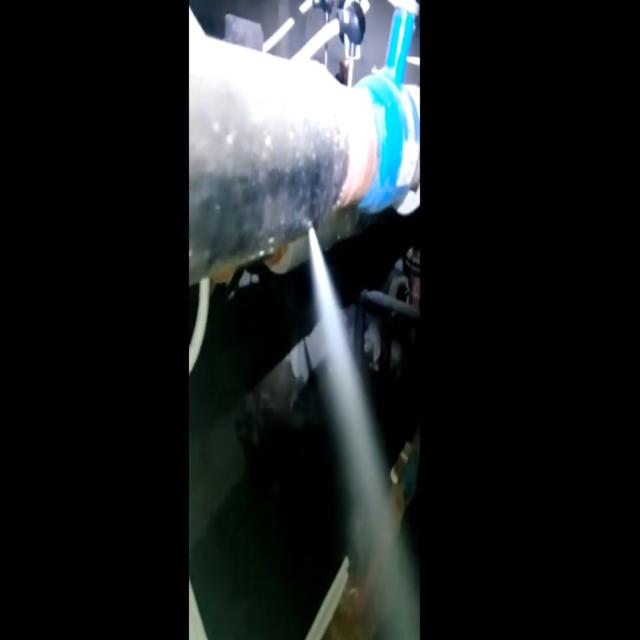leak: (309, 228, 419, 638)
